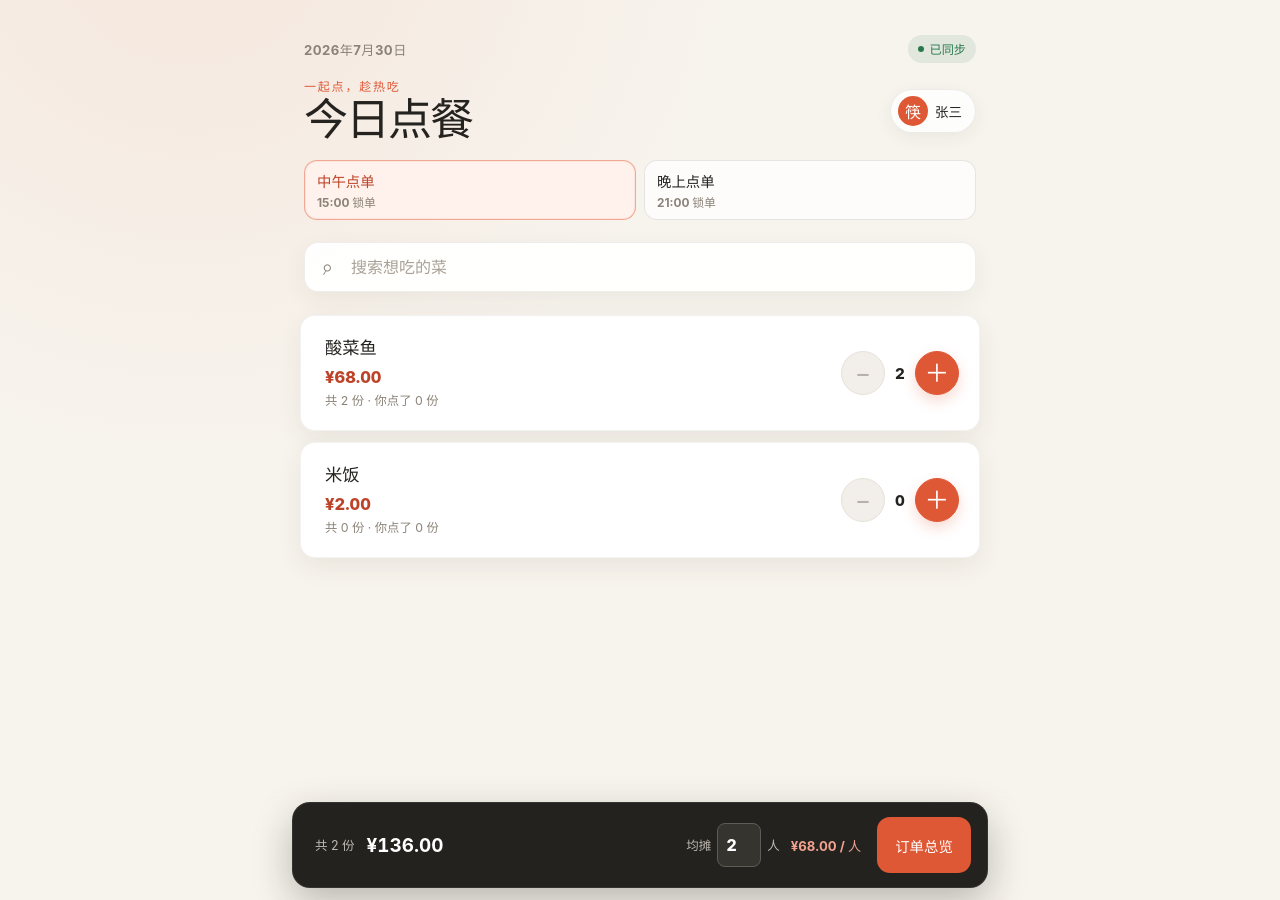
it: renders the warm menu without exposing orderer names and supports interactions
Expected: the heading "今日点餐" is shown, [304,97,472,144]
Expected: the text "2026年7月30日" is shown, [304,40,407,58]
Click the button named "增加酸菜鱼" at (937, 373), box [915,351,959,395]
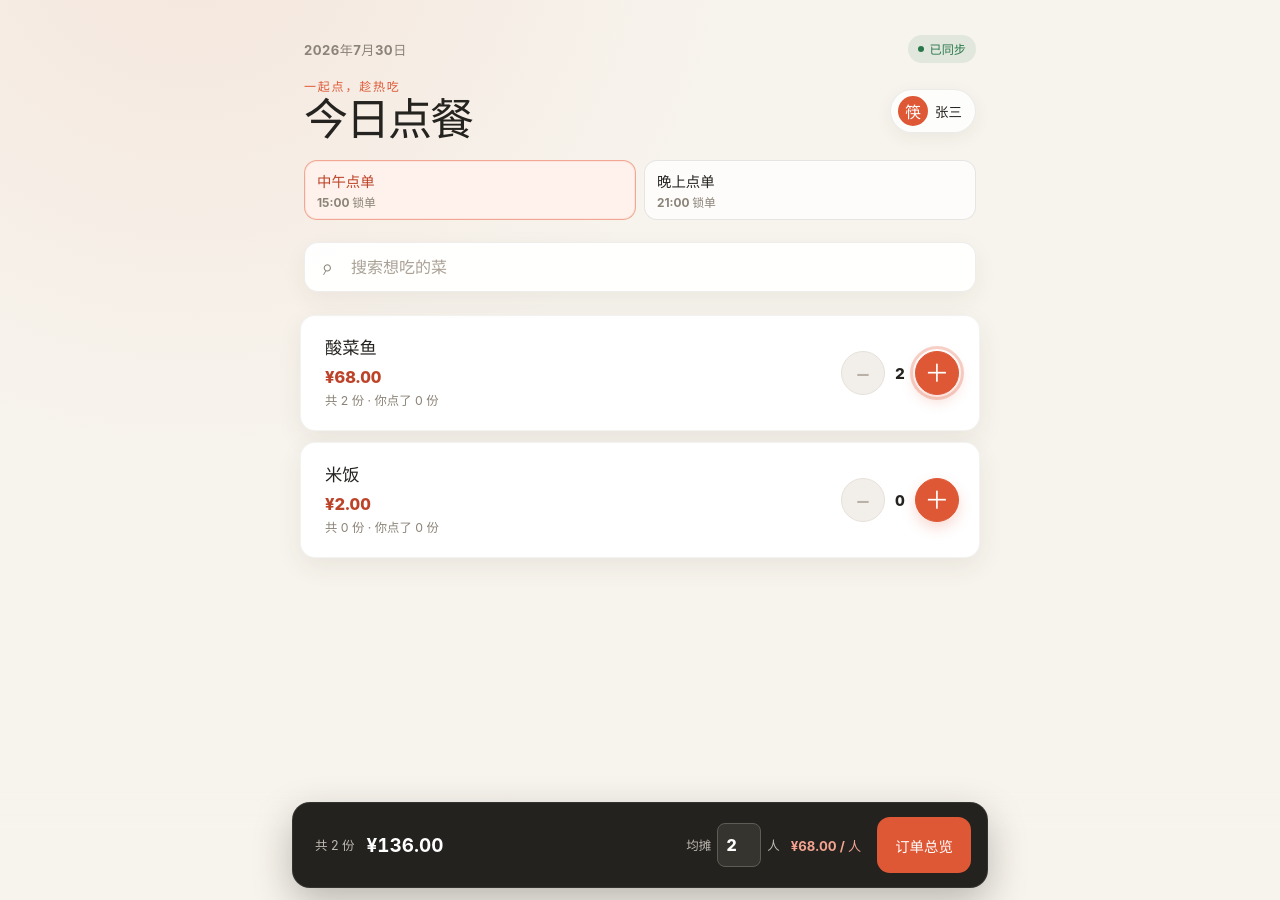
Type "米饭" into the search field named "搜索菜品" at (640, 266), box [304,242,976,292]
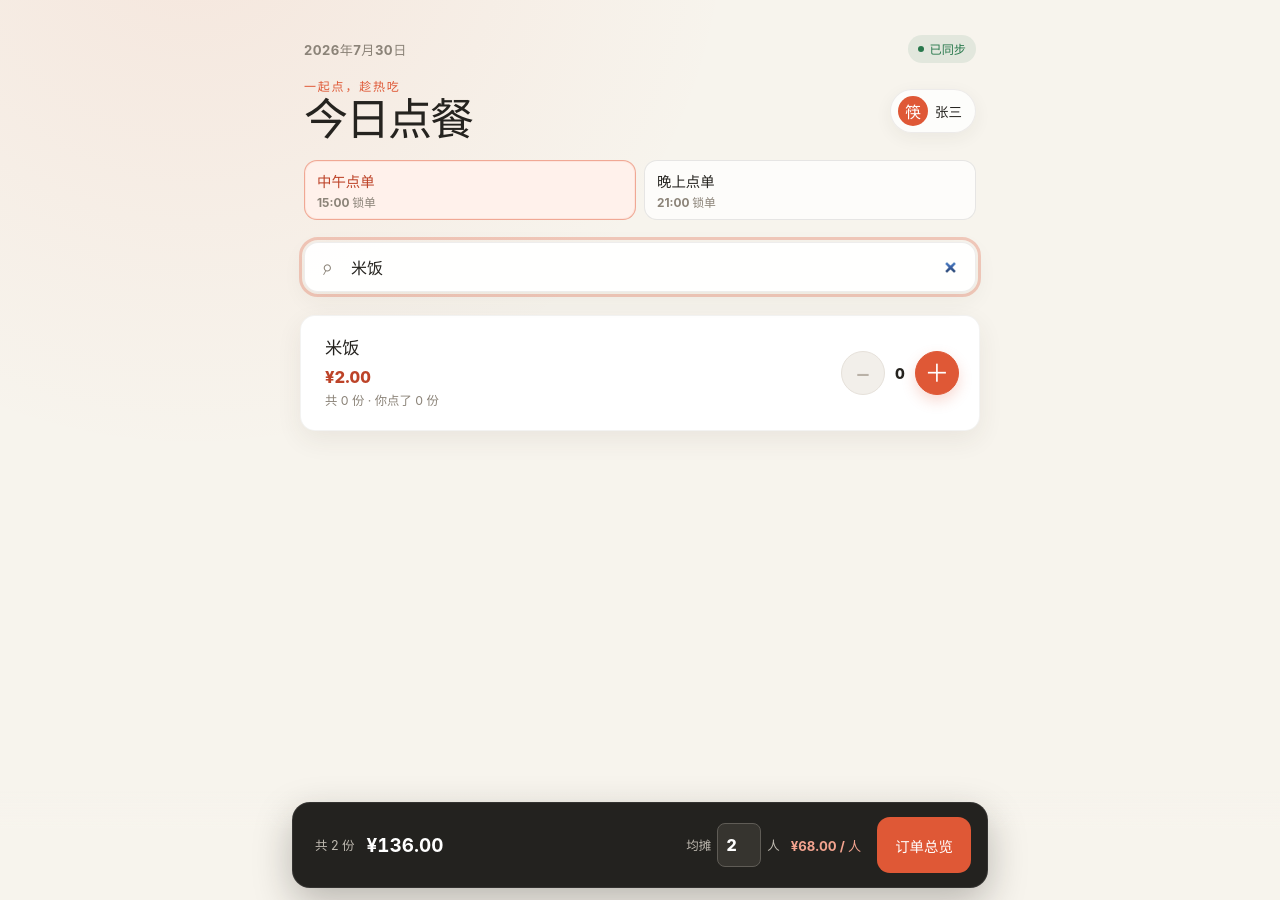
Expected: the heading "米饭" is shown, [325,337,360,358]
Expected: the heading "酸菜鱼" is gone
